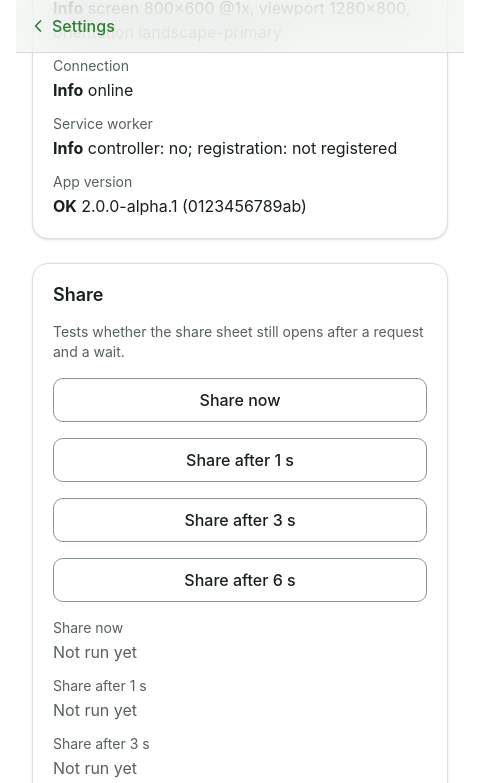
Test: DiagnosticsScreen › notes a browser without a share sheet
This screenshot has width=481, height=783.
(page scrolled)
Click the button "Share now".
click(240, 400)  # box [53,378,427,422]
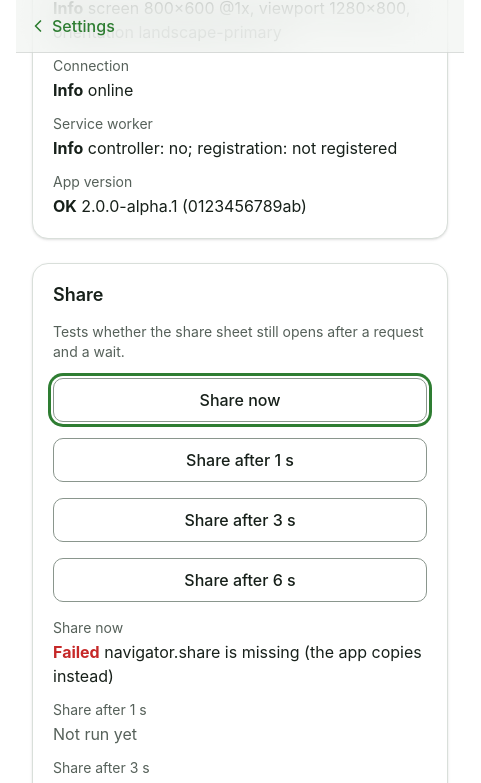
Check: the element with test id "diag-result" shows "Failed navigator.share is missing", box [53,618,427,688]
